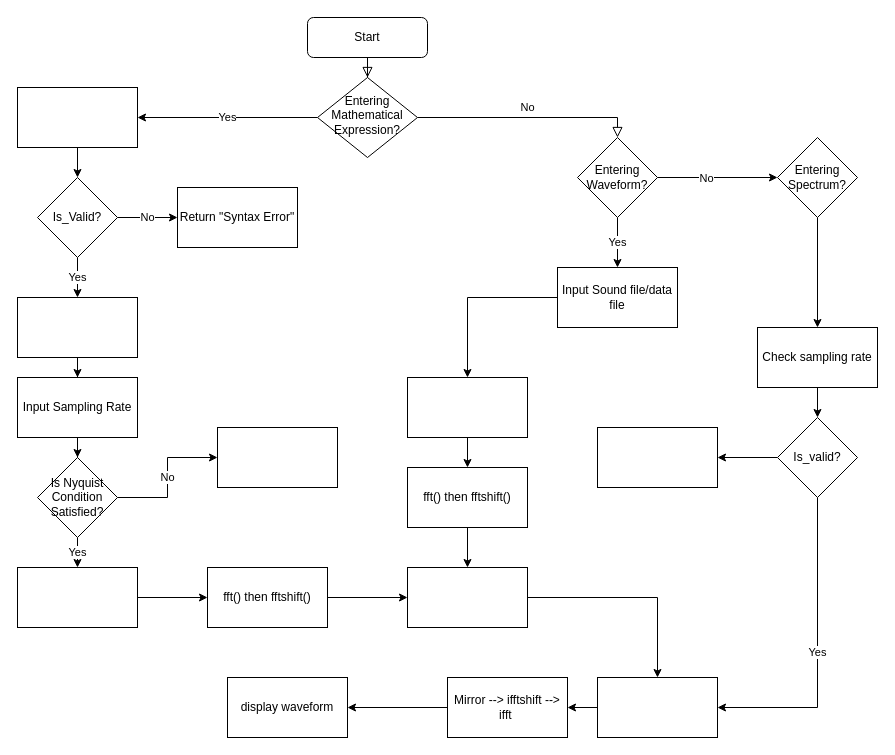
The diagram is 895 pixels wide and 755 high, and some of its shapes have lost their labels. Each missing label, with the centre of its shape:
Convert Sound file/data into t_vector: [467,407]
Discretize the Signal: [77,597]
display from 0 to f_max: [657,707]
Input Signal Region in time: [77,327]
Return "Error: Sampling Rate too low" + Hint: [277,457]
Return "Sampling Error": [657,457]
Take half of the spectrum data: [467,597]
Take Mathematical Expression from GUI: [77,117]
